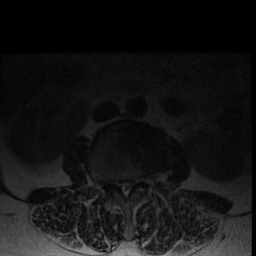CCS_stenosis: (122, 174, 129, 203)
LFS_severe_stenosis: (135, 171, 142, 192)
LLS_stenosis: (129, 173, 135, 193)
RFS_severe_stenosis: (108, 171, 117, 191)
RLS_severe_stenosis: (116, 174, 123, 193)
